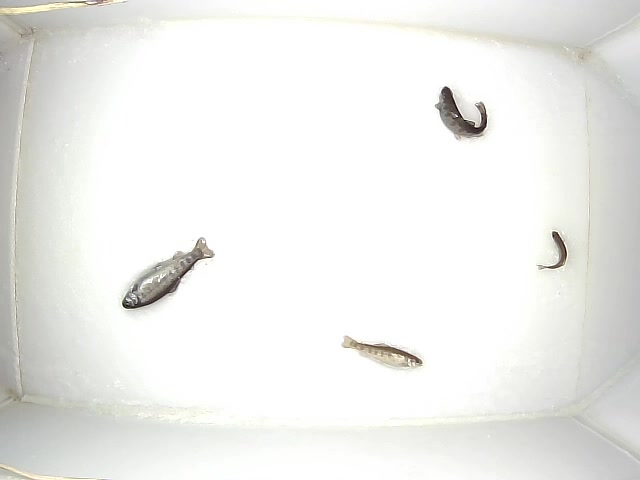fish: (122, 237, 215, 309), (341, 335, 423, 370), (435, 86, 487, 141), (536, 231, 567, 271)
